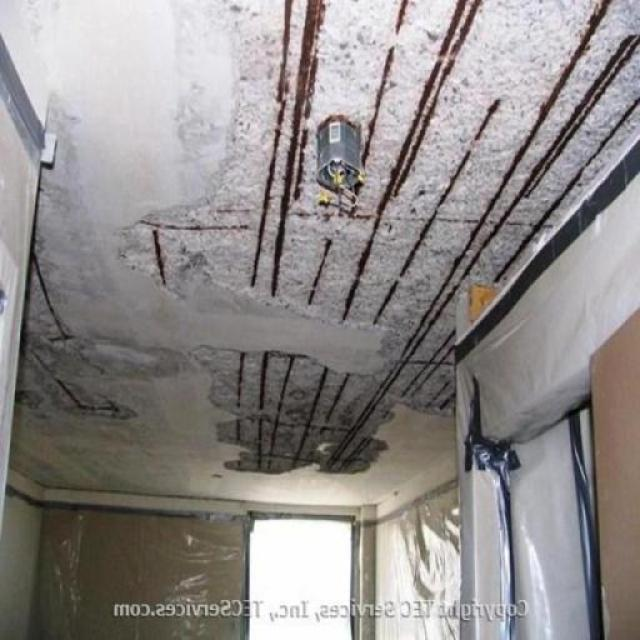D0w0: (12, 0, 639, 478)
